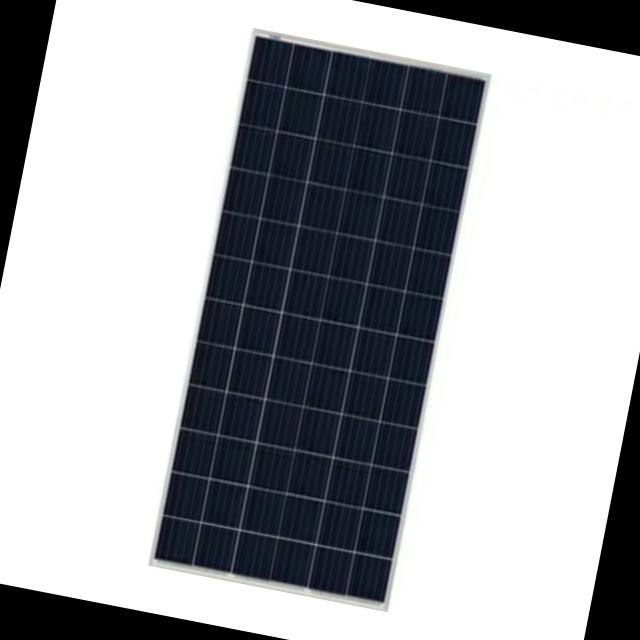no faulty: (158, 39, 490, 608)
